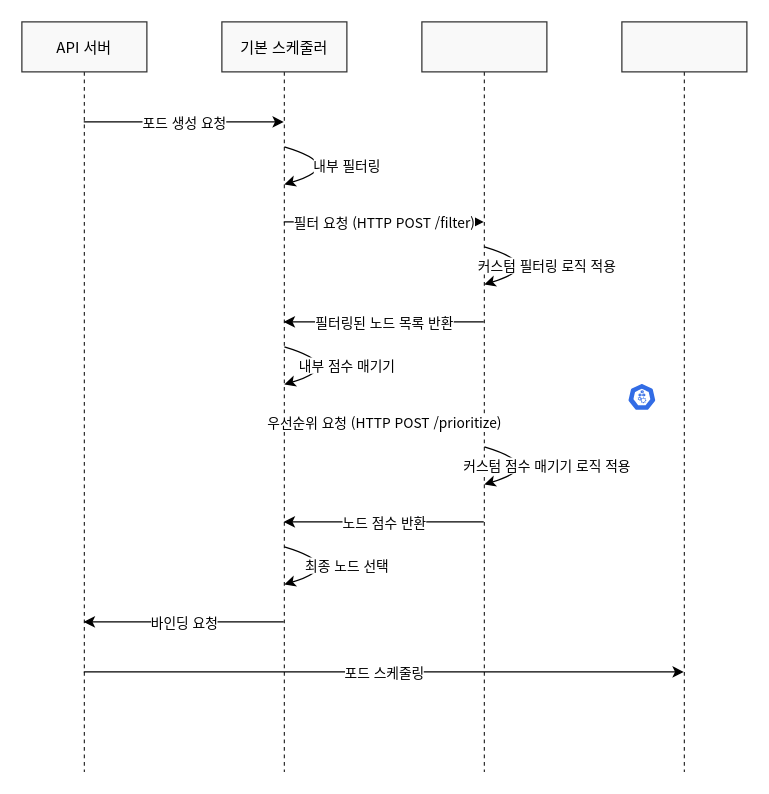
This 769x794 diagram has some shape labels left out. The box of each missing label's shape, as (x1, y1, x2, y2) in pixels:
노드: (621, 21, 747, 772)
스케줄러 확장: (421, 21, 547, 772)
